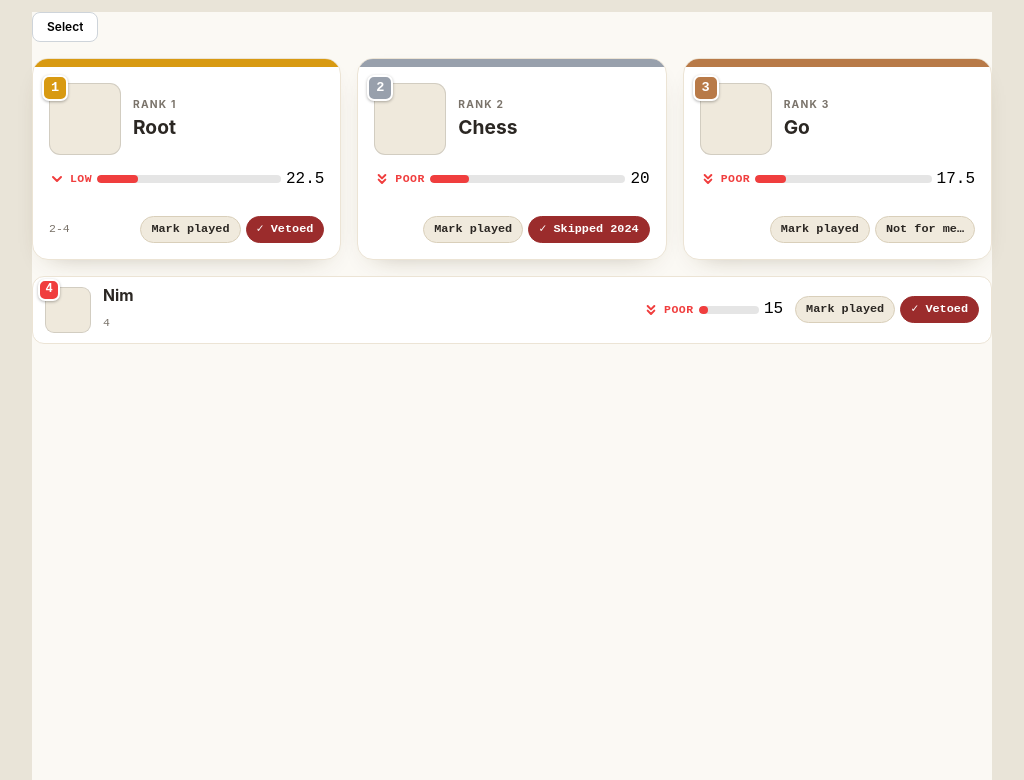
Test: GamesList › vetoes › bulk select › year button saves only to yearVetoes, skipping year-vetoed
Click the button "Select": (65,27) [32,12,98,42]
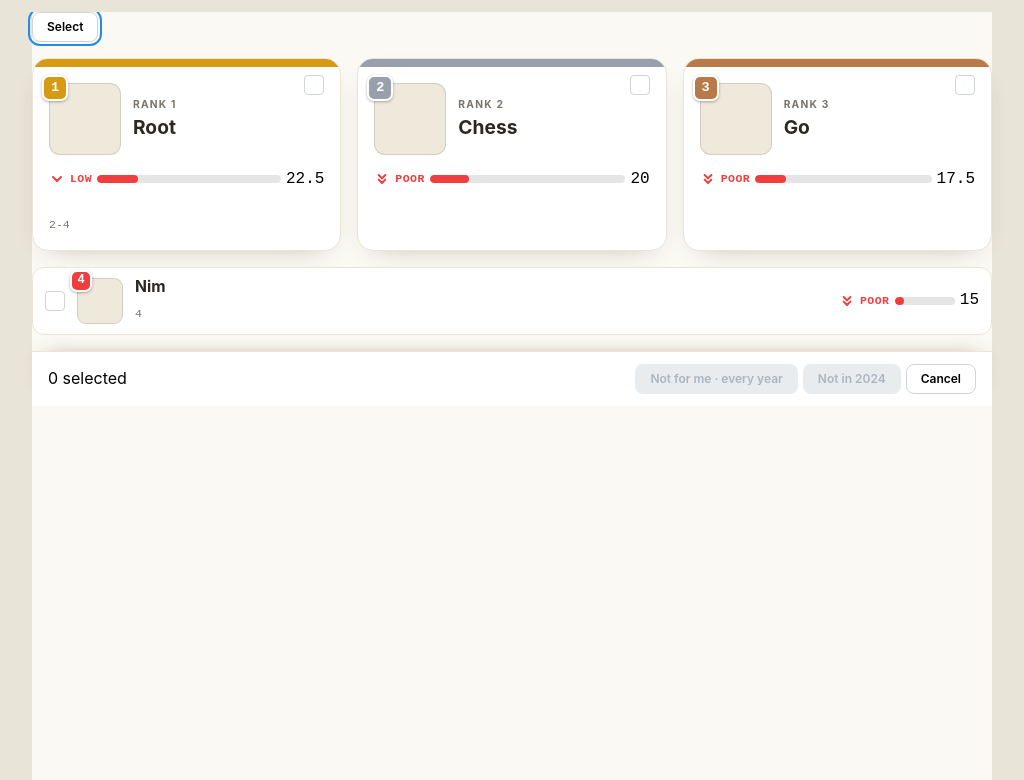
Click the checkbox named "Select Root": (314,85) [304,75,324,95]
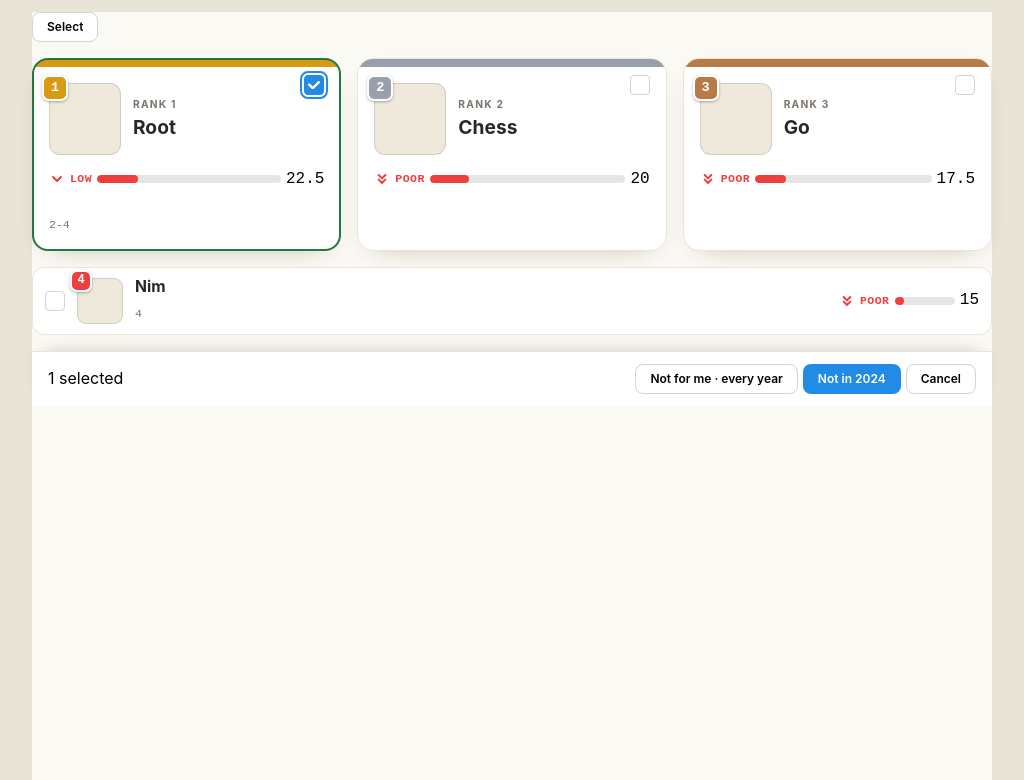
Click the checkbox named "Select Chess": (640,85) [630,75,650,95]
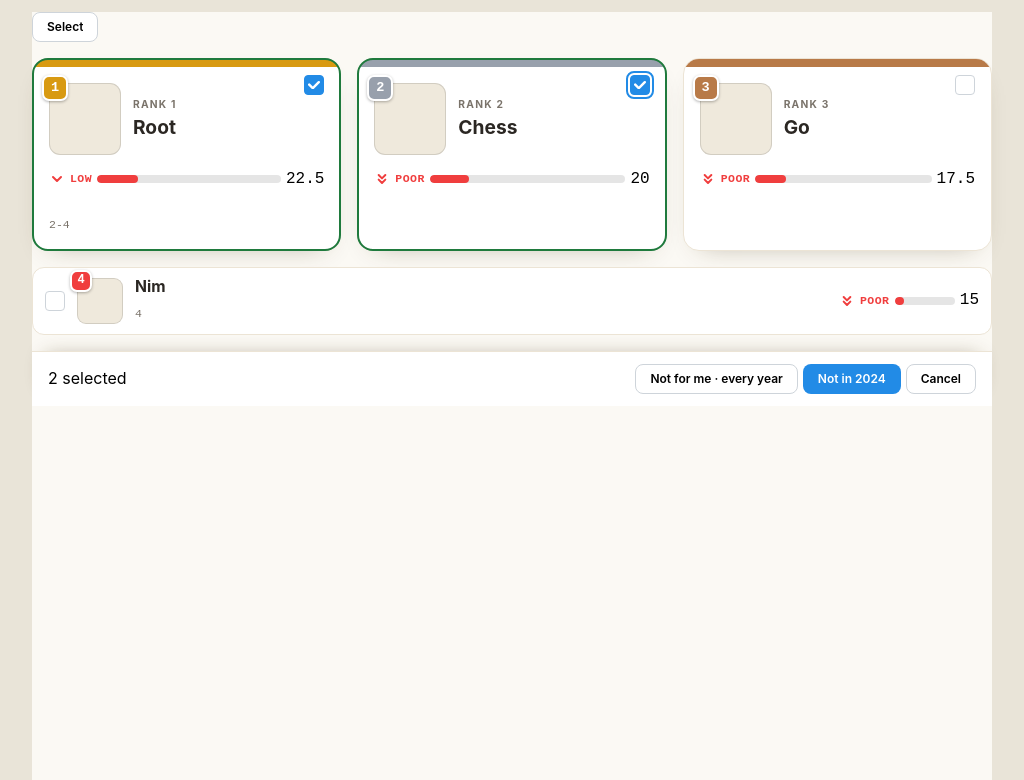
Click the checkbox named "Select Go": (965,85) [955,75,975,95]
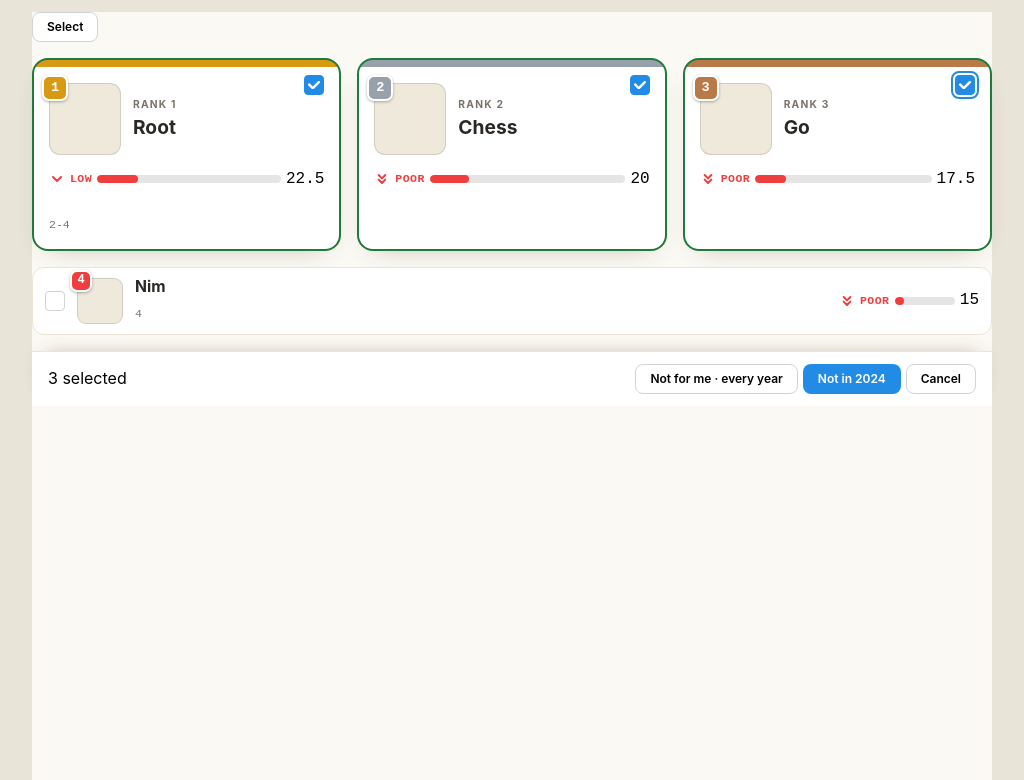
Click the button "Not in 2024": (852,379) [803,364,901,394]
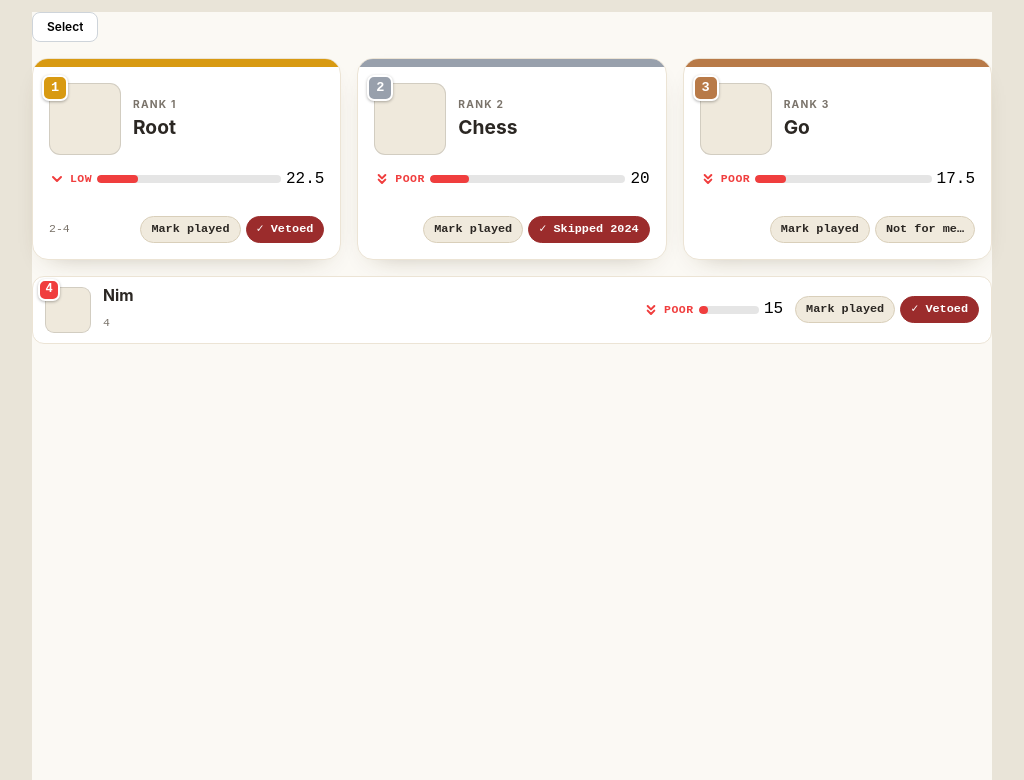
Result: the text "selected" is gone
